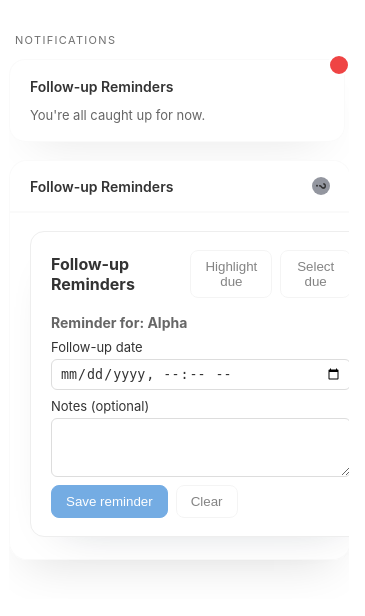
followUpRemindersPlugin › saves a reminder and persists it to storage
Type "2025-03-01T12:30" into the field labelled "Follow-up date" at [201, 375], box [51, 359, 351, 391]
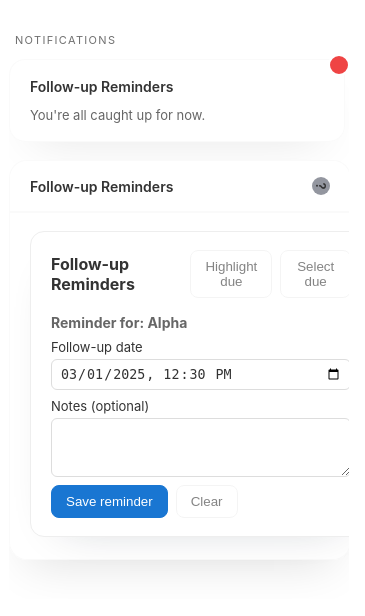
Type "Call back client" into the text box labelled "Notes (optional)" at [201, 448], box [51, 419, 351, 478]
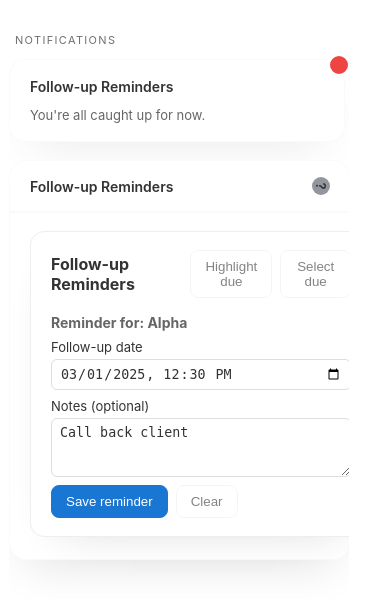
Click the button "Save reminder" at [109, 502], box [51, 486, 168, 519]
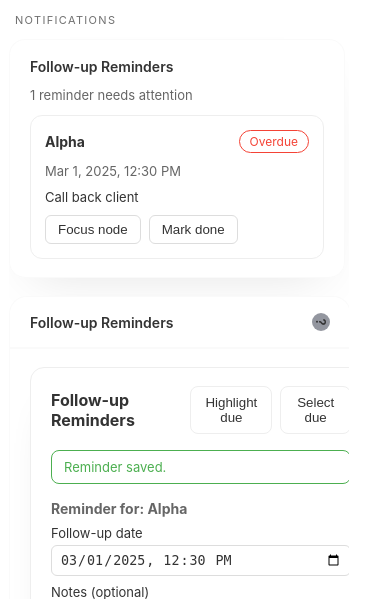
Expected: the text "Reminder saved." is shown, [51, 450, 349, 484]
Expected: the button "Mark done" is shown, [149, 215, 238, 244]
